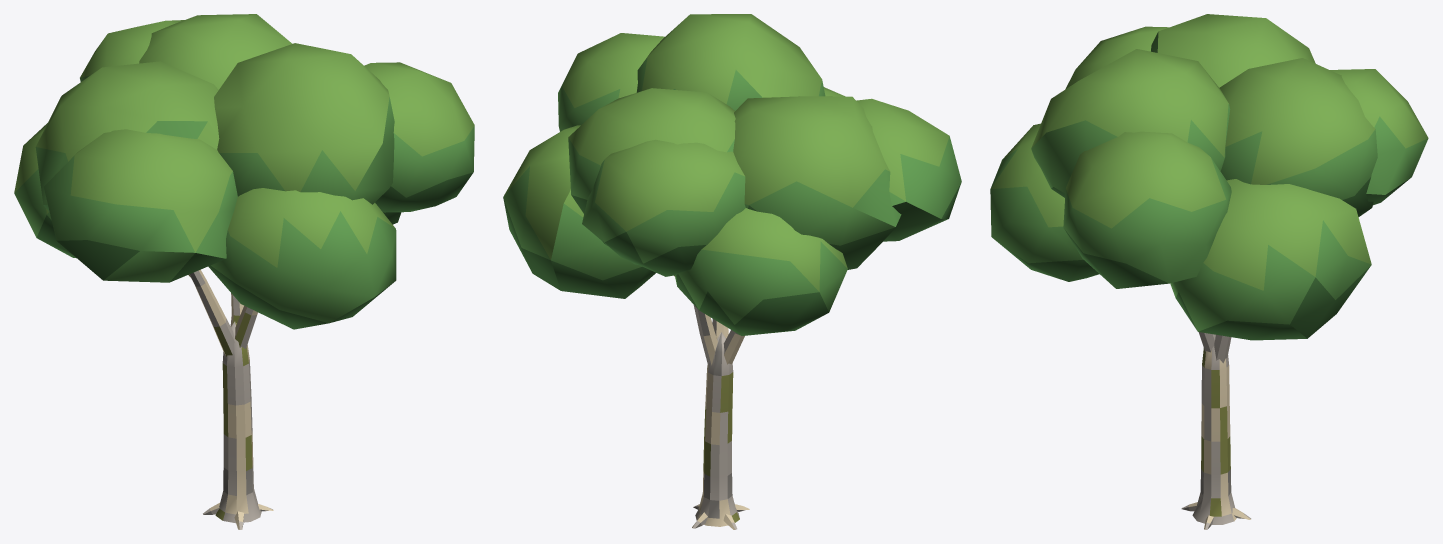
File: SC_Nat_Plane_Tree.gltf
3 views of the same model, side by side, from view 1: azimuth 30°, elevation 25°; view 2: azimuth 150°, elevation 25°; view 3: azimuth 270°, elevation 25° (orthographic). The views are drawn at different scales.
Visible parts, largest first — view 1: SC_Nat_Plane_Tree; view 2: SC_Nat_Plane_Tree; view 3: SC_Nat_Plane_Tree.
Part boxes in pixels (x1,y1,x2,y2): SC_Nat_Plane_Tree: (14, 14, 474, 529); SC_Nat_Plane_Tree: (503, 14, 961, 529); SC_Nat_Plane_Tree: (990, 14, 1428, 529).
Bounding box in the file's own units: 8.76 × 10.07 × 8.5.
Materials: 1 (1 with a texture image).
